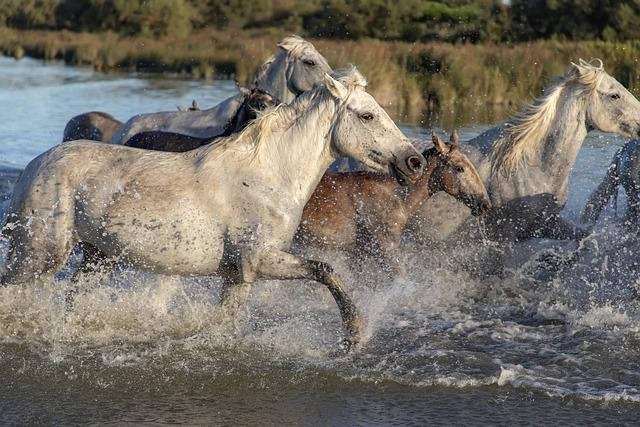Non_Gorille: (28, 6, 635, 355)
